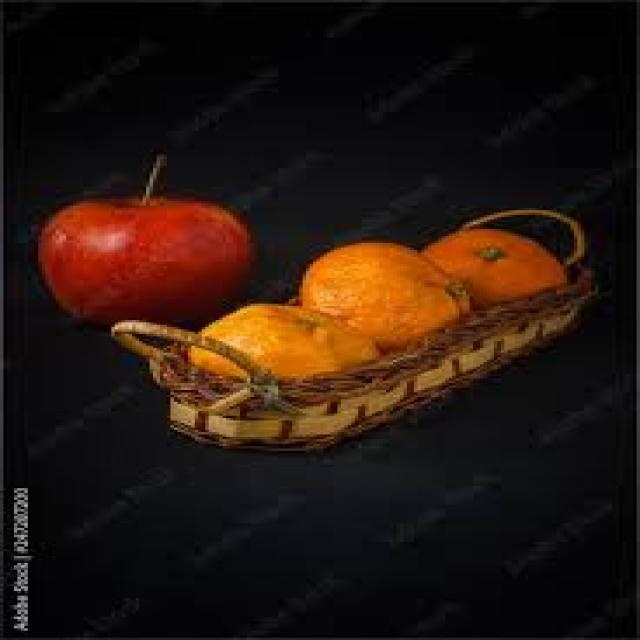agrume: (25, 165, 336, 347)
